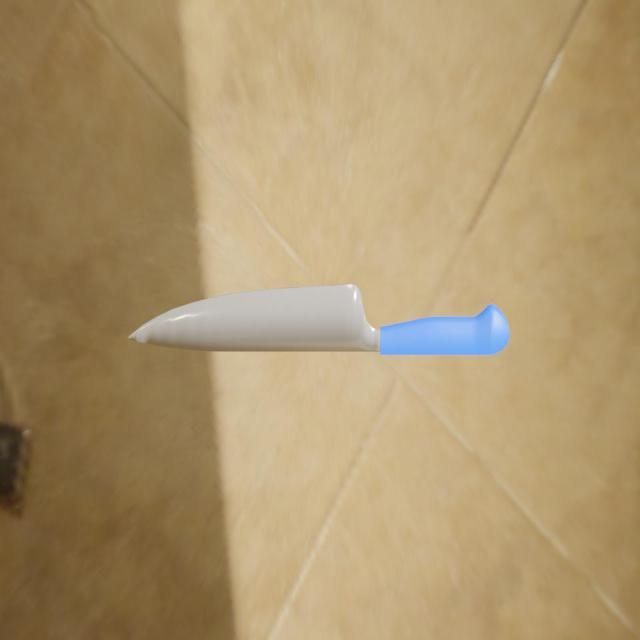knife: (377, 304, 510, 355)
